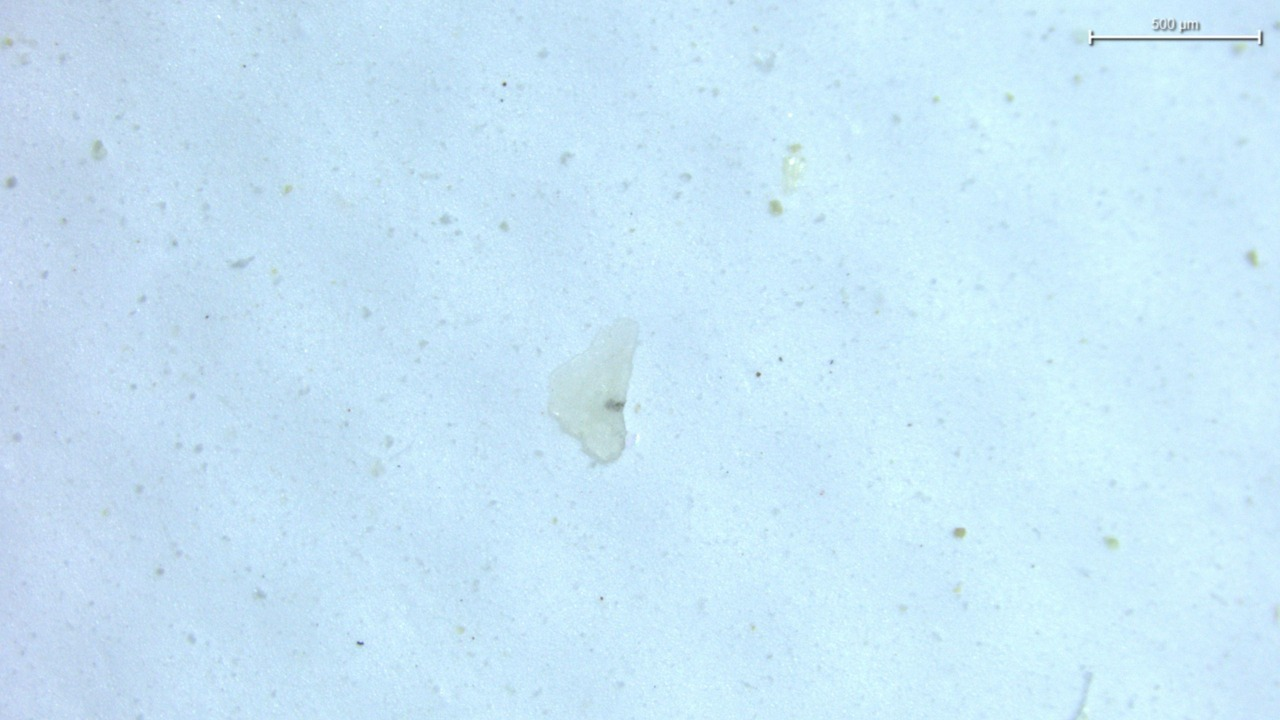microplastic_fragment: (548, 318, 637, 462)
